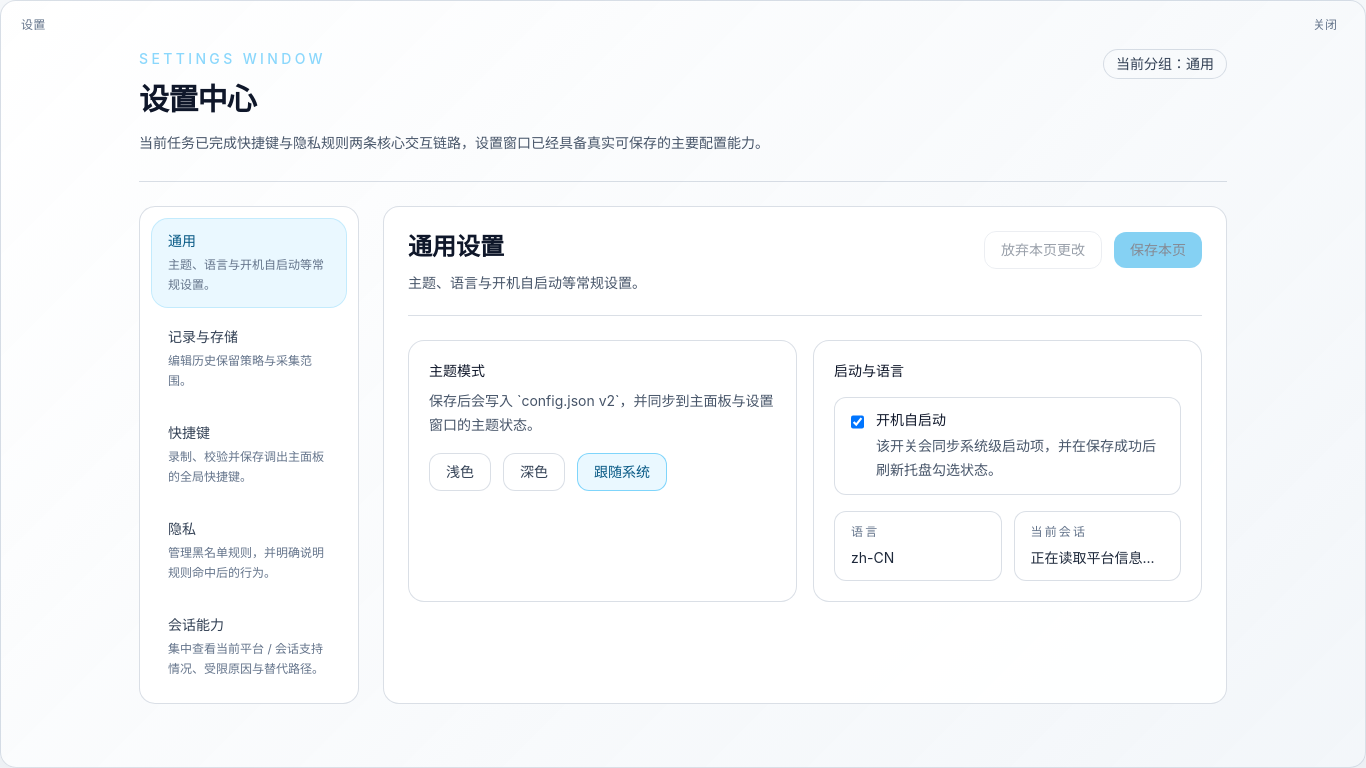
Test: components/SettingsWindowPlaceholder › 展示设置窗口导航并回显设置快照
Expected: the heading "设置中心" is shown, left=139, top=81, right=256, bottom=117
Expected: the tab "会话能力 集中查看当前平台 / 会话支持情况、受限原因与替代路径。" is shown, left=152, top=603, right=346, bottom=691
Click the tab "记录与存储 编辑历史保留策略与采集范围。" at coordinates (249, 359), box left=152, top=315, right=346, bottom=403
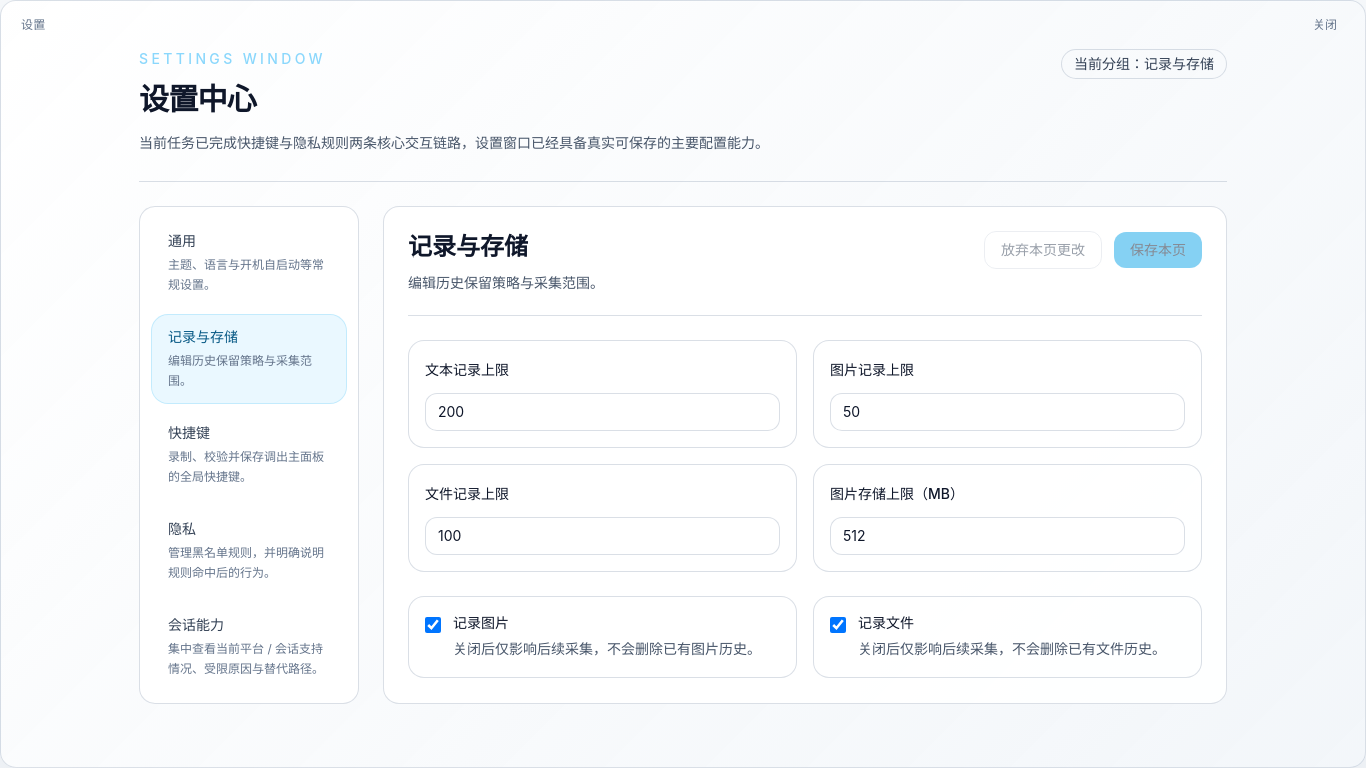
Now the heading "记录与存储" is shown, box left=408, top=232, right=528, bottom=261
Now the number field labelled "文本记录上限" holds "200", box left=425, top=393, right=780, bottom=431
Now the number field labelled "图片存储上限（MB）" holds "512", box left=830, top=517, right=1185, bottom=555
